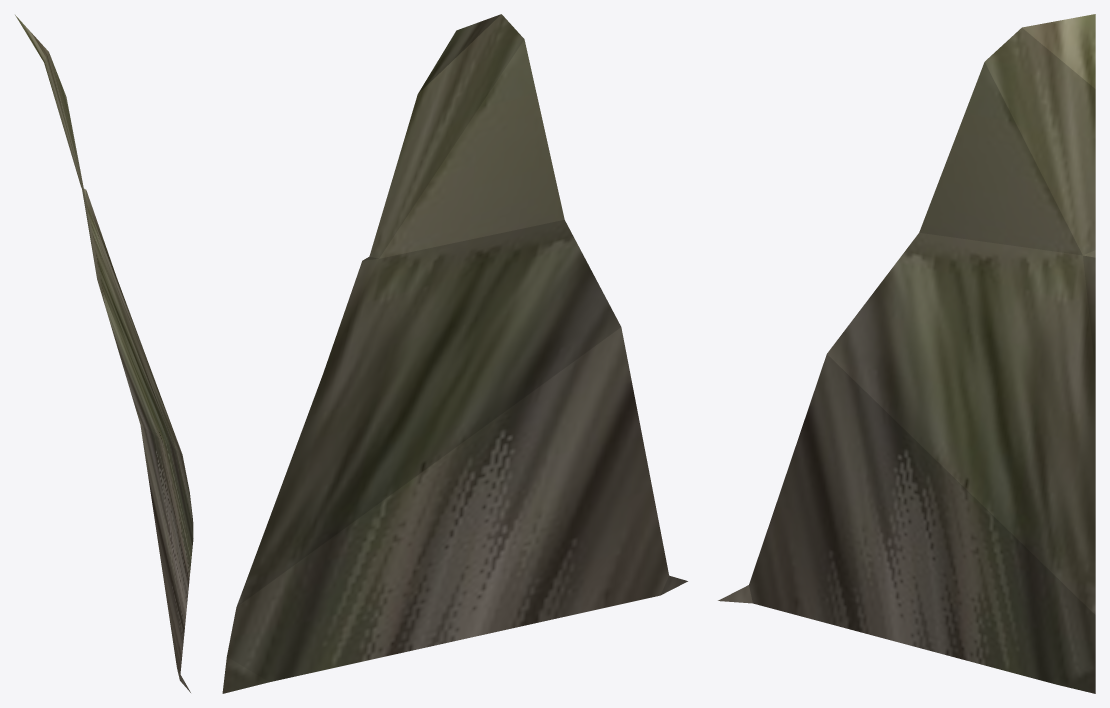
3 views of the same model, side by side, from view 1: azimuth 30°, elevation 25°; view 2: azimuth 150°, elevation 25°; view 3: azimuth 270°, elevation 25° (orthographic). The views are drawn at different scales.
Size of the model in its own units: 0.7126 by 2.1 by 1.22.
1 material, 1 textured.
